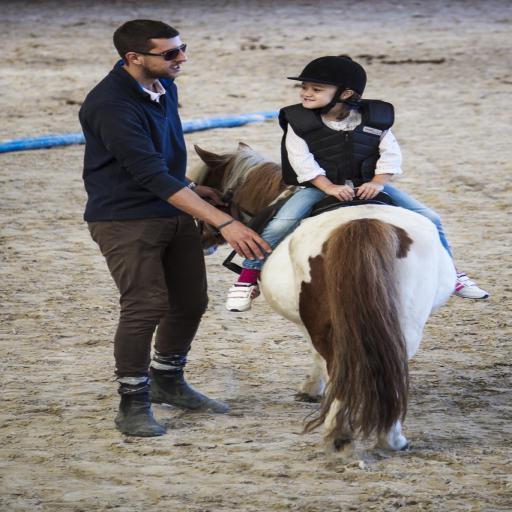Horse: (190, 139, 461, 457)
